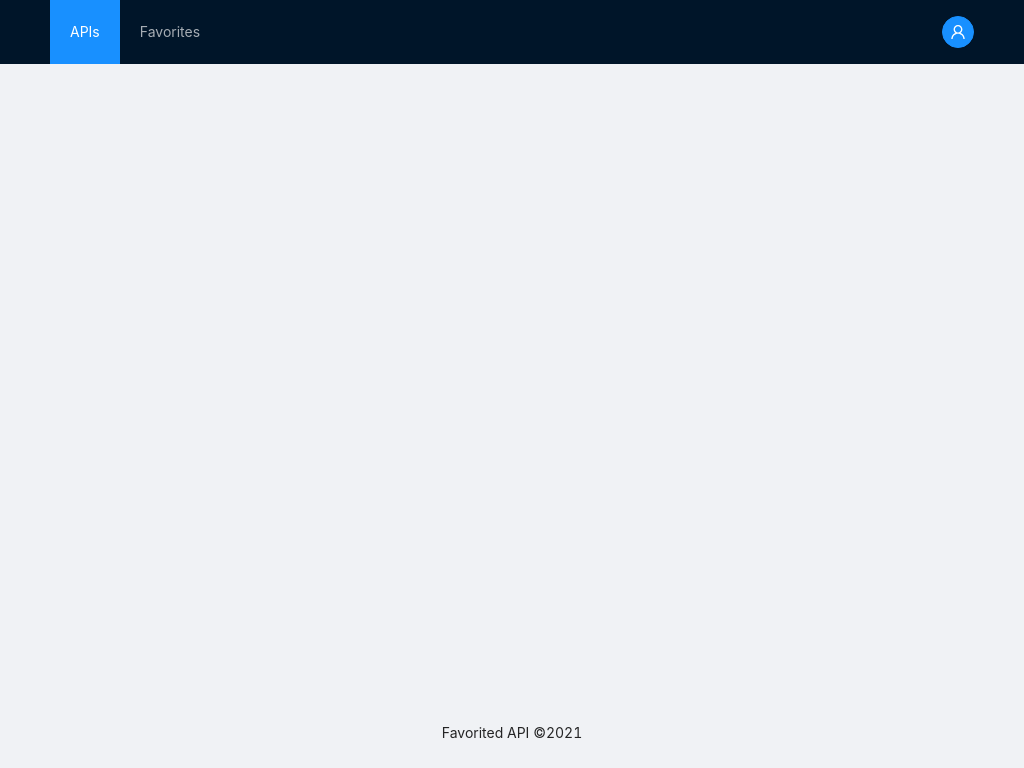
Test: AppLayout › it should show profile button when user is authenticated
Click the button titled "Profile Button": point(958, 32) x1=942 y1=16 x2=974 y2=48
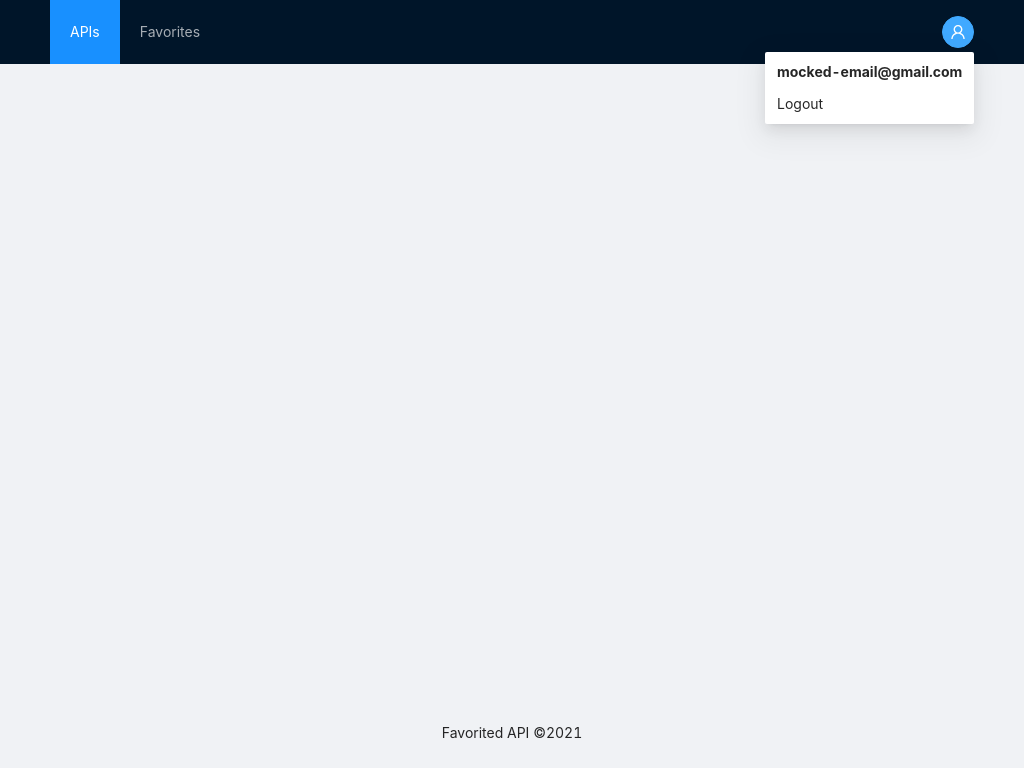
Check: the text "mocked-email@gmail.com" is shown, box x1=777 y1=63 x2=962 y2=80
